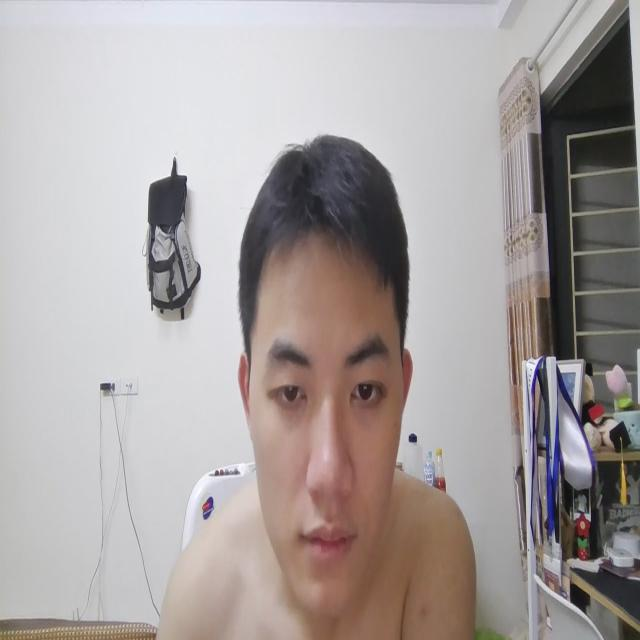student: (228, 118, 426, 630)
